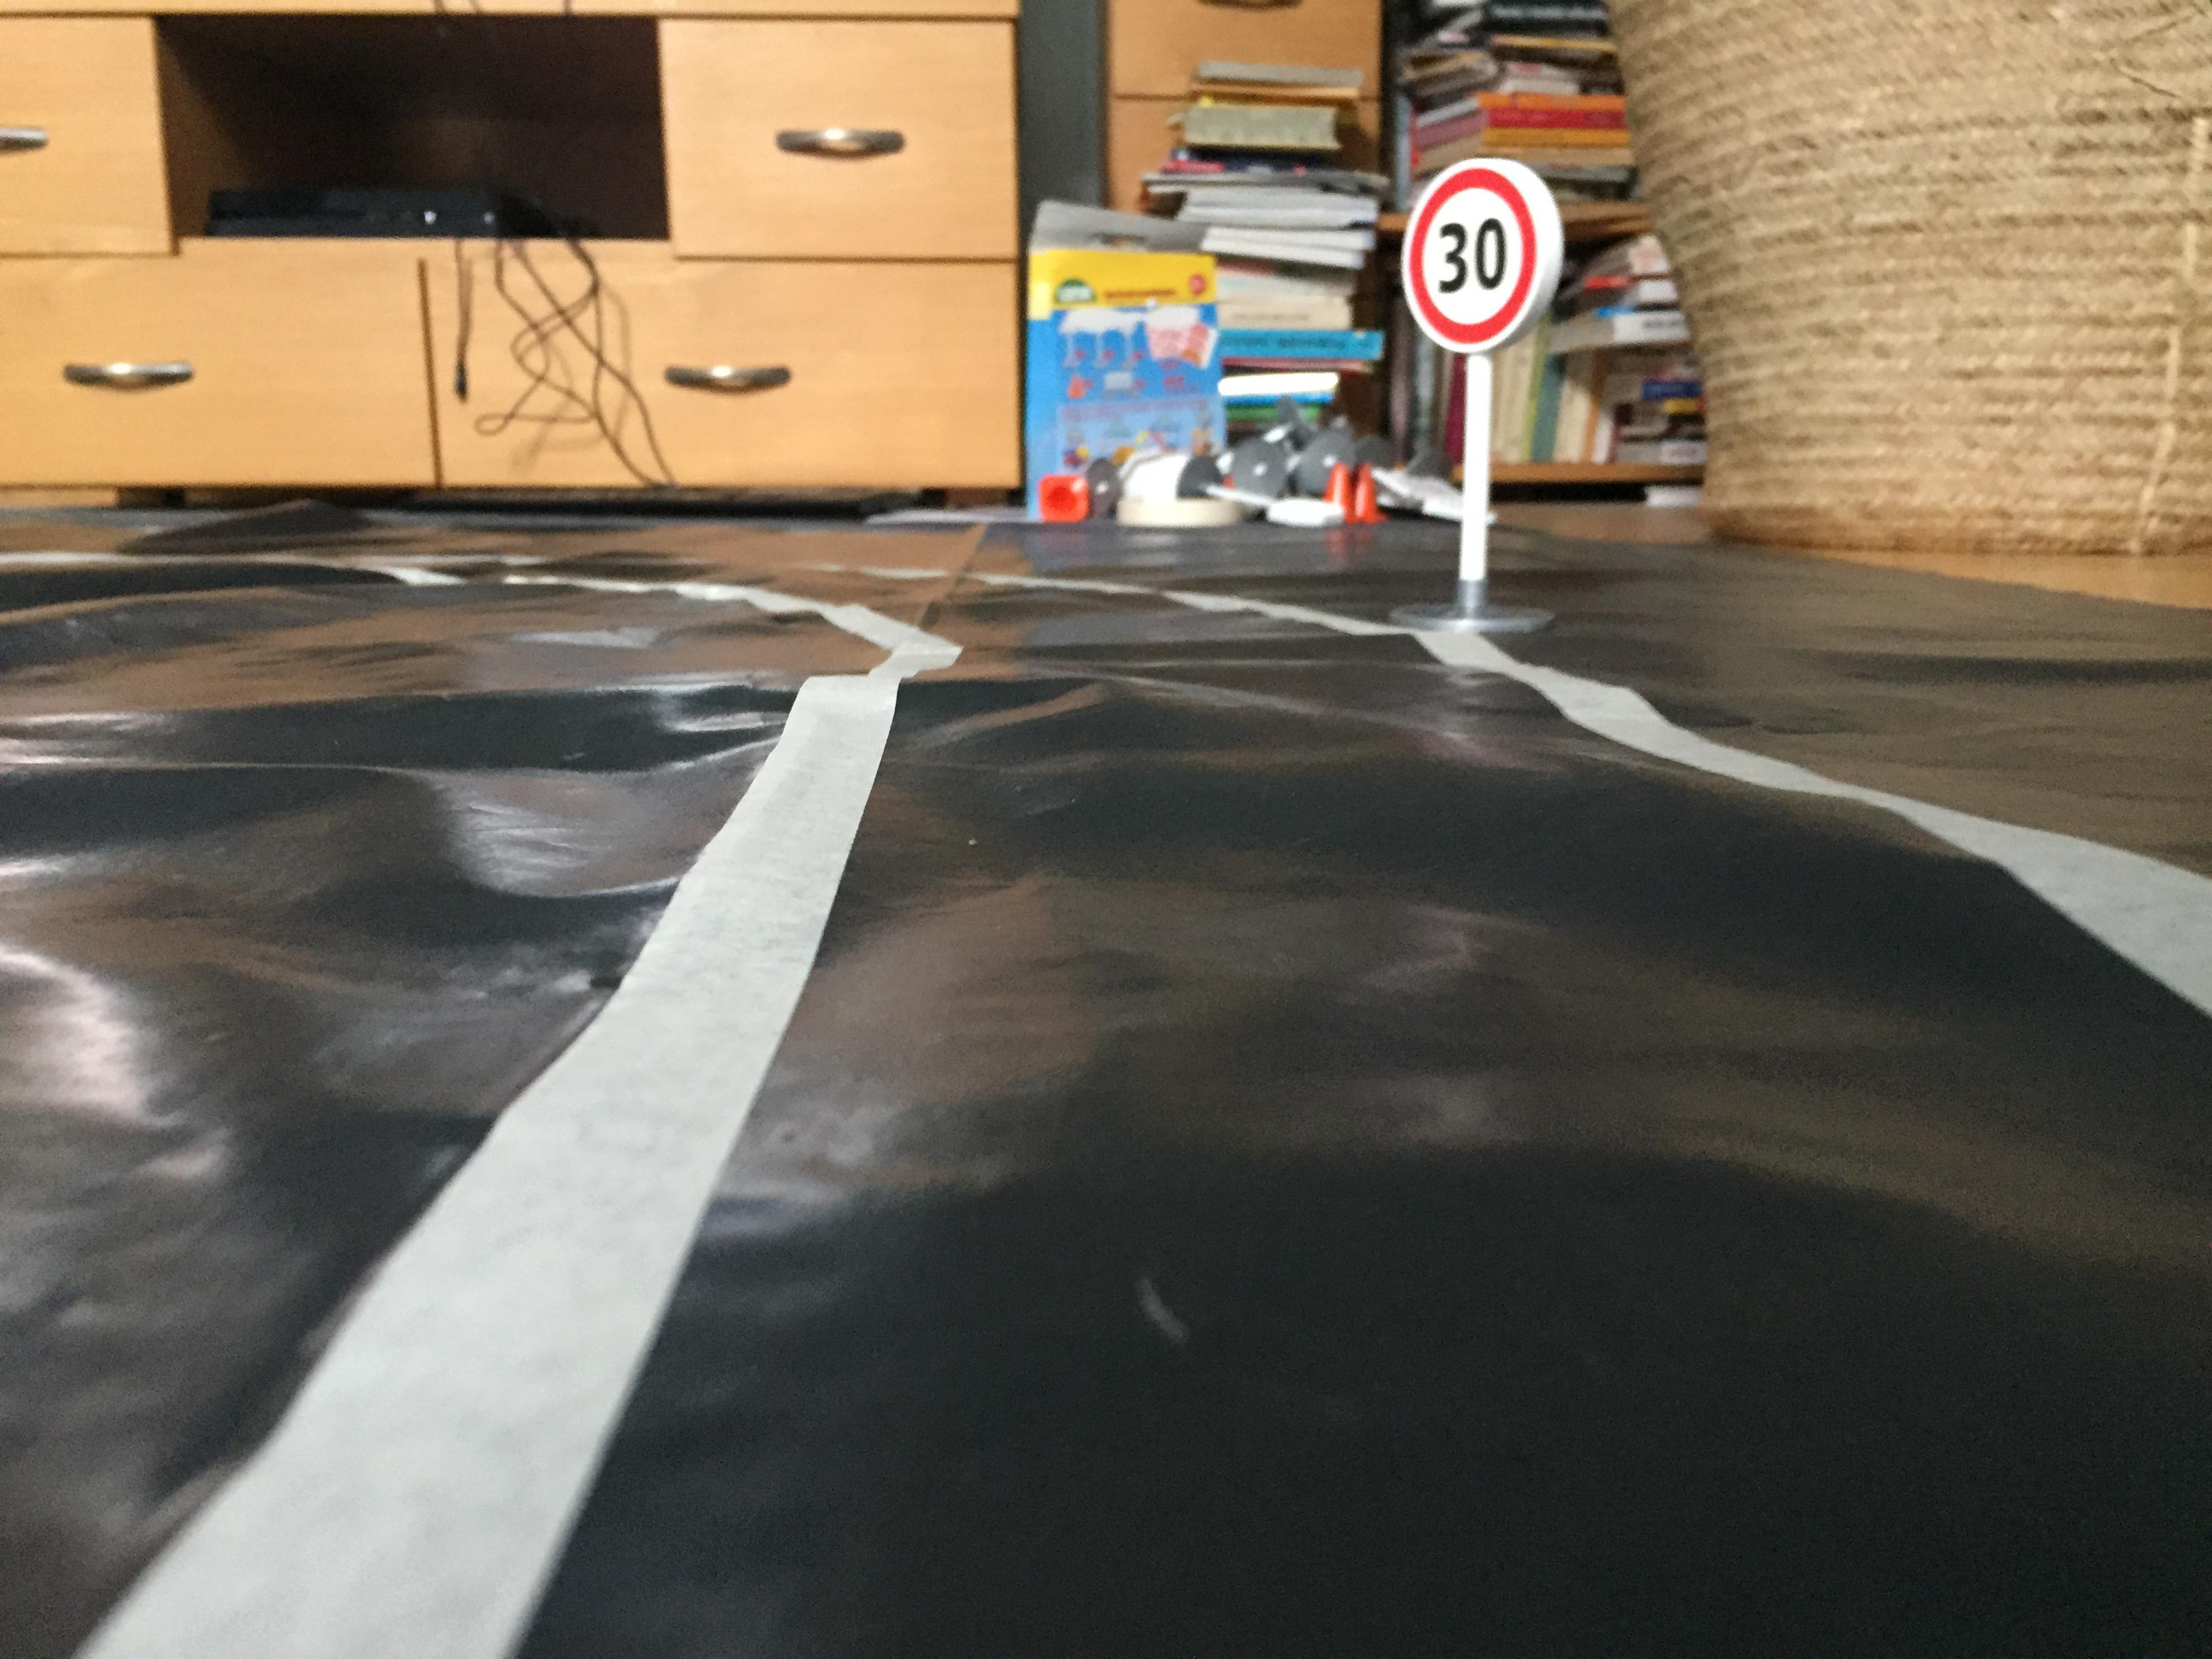speed: (1399, 150, 1571, 359)
